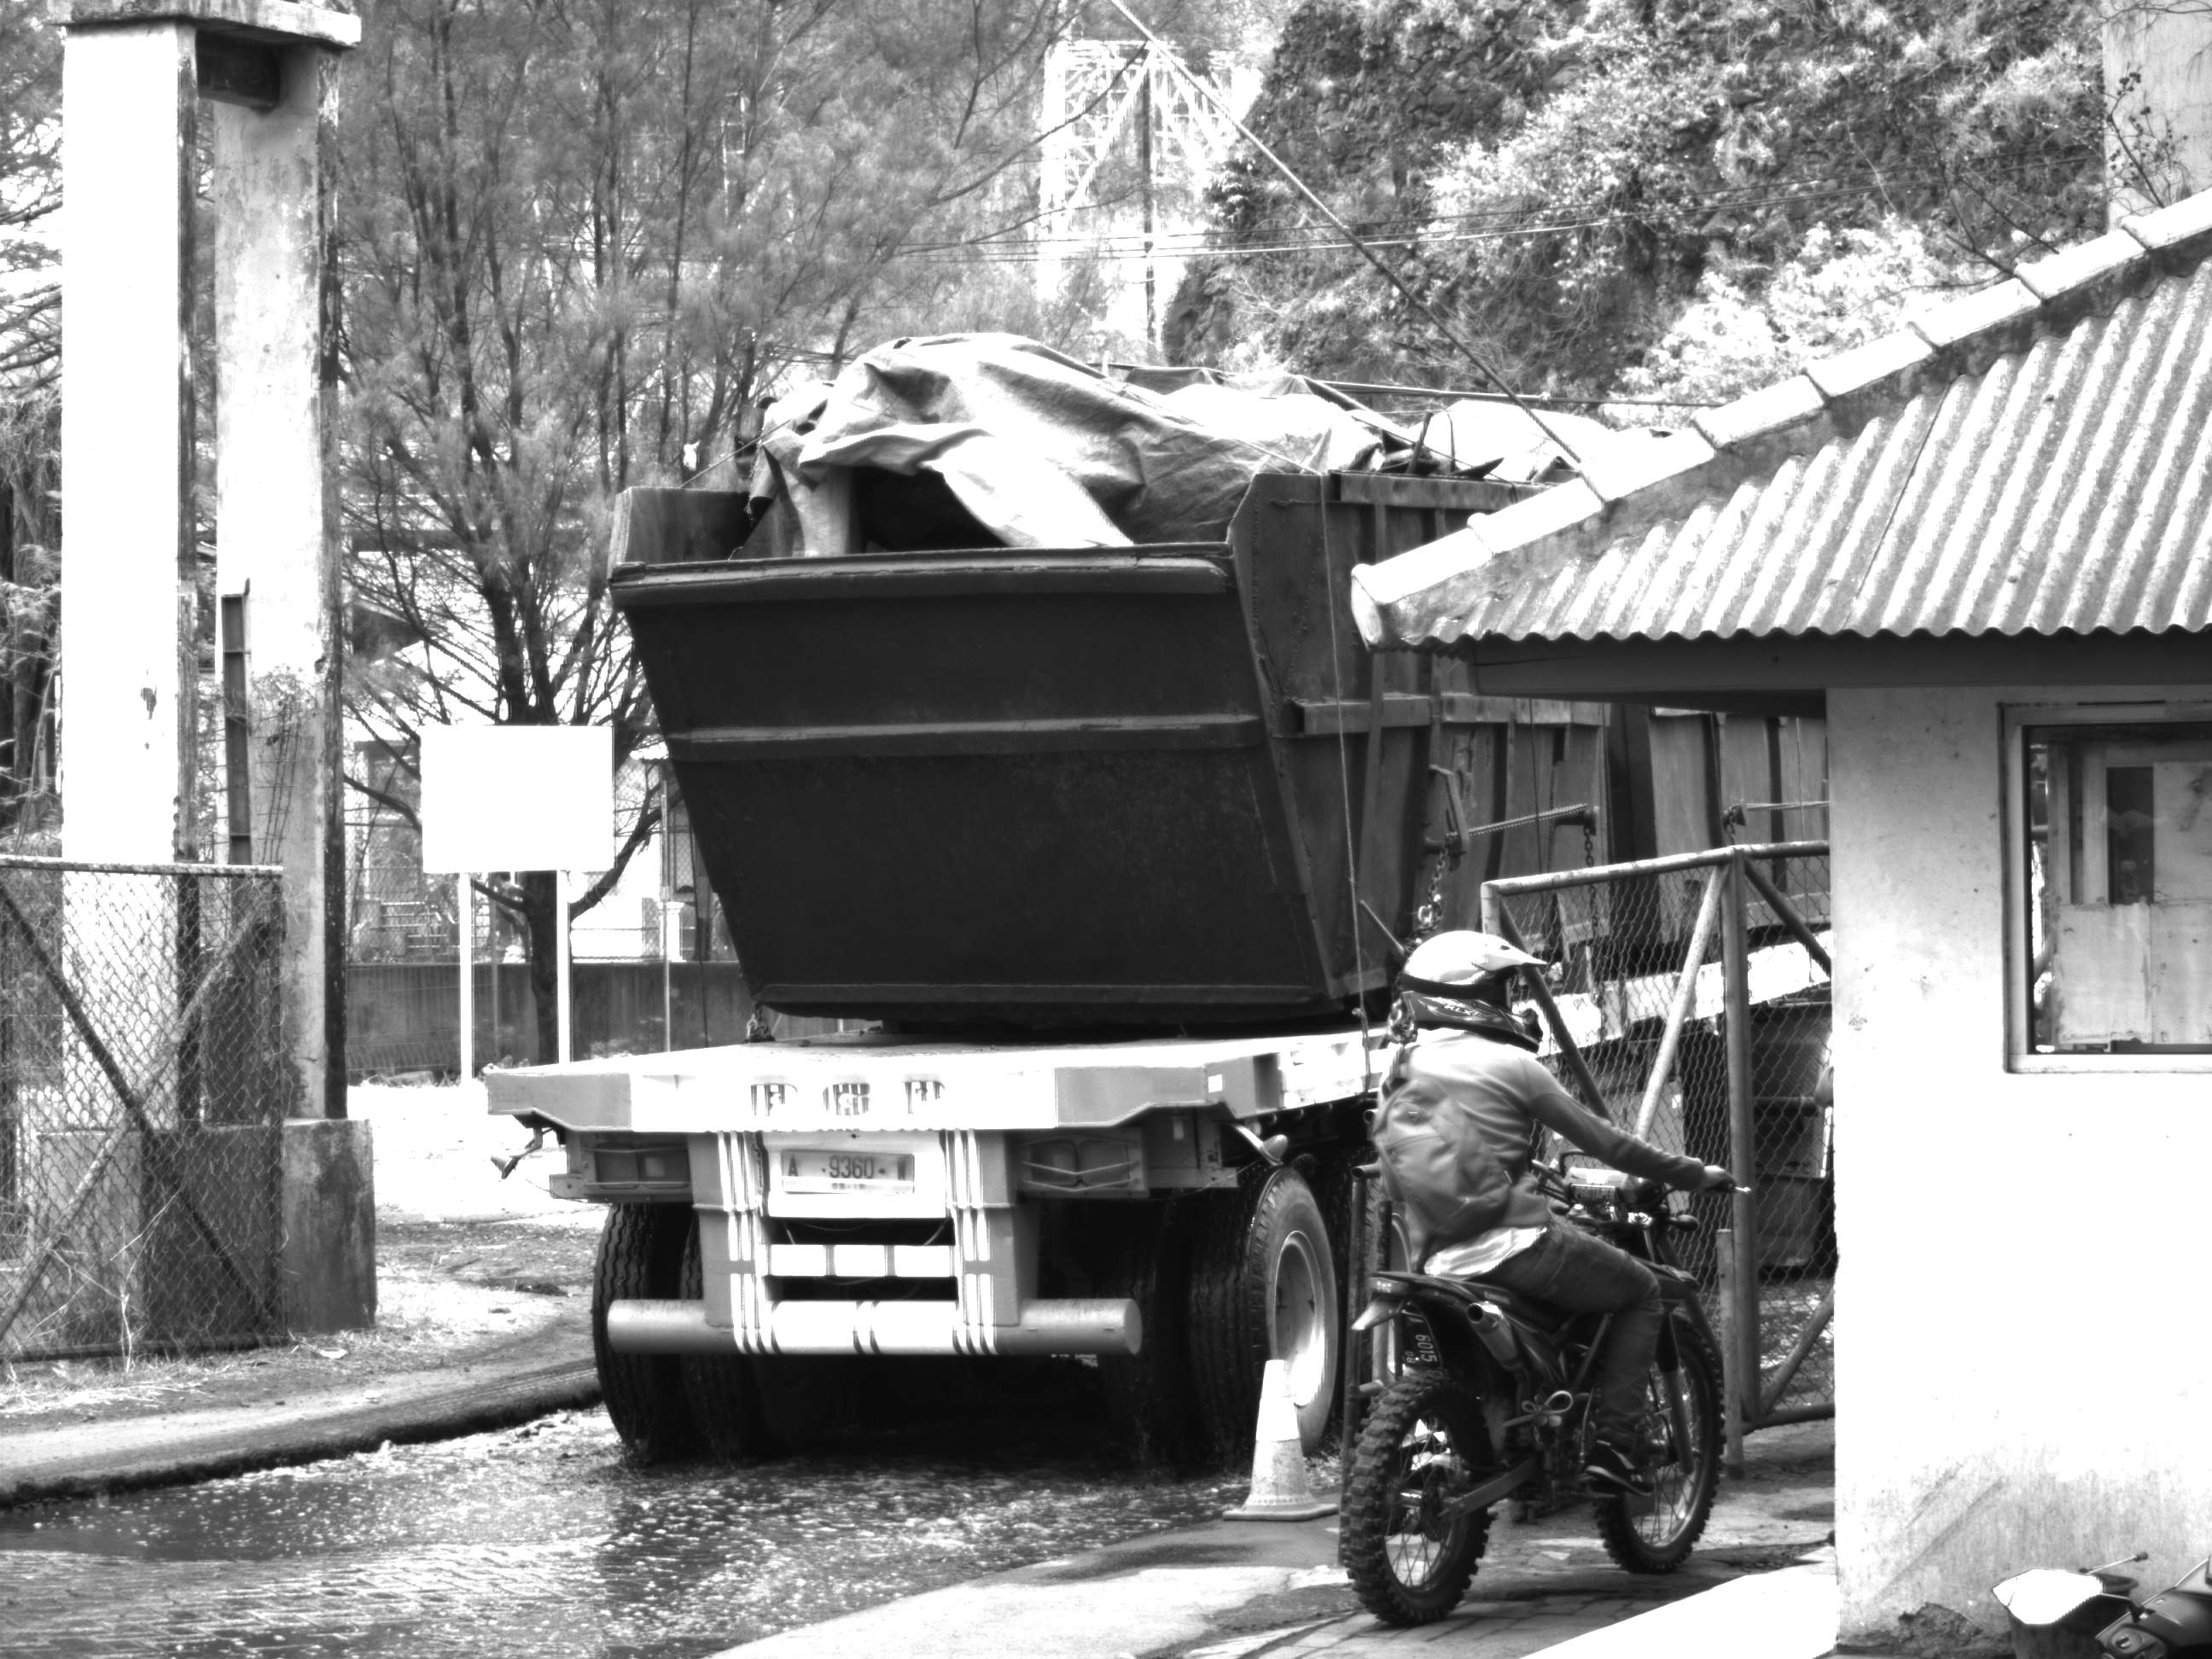day_motorcycle_rear: (1341, 1139, 1766, 1631)
day_truck_rear: (471, 1001, 1353, 1493)
plate: (781, 1147, 919, 1196)
